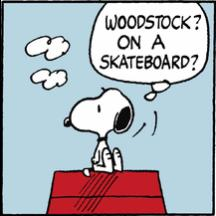snoopy: (62, 87, 134, 178)
